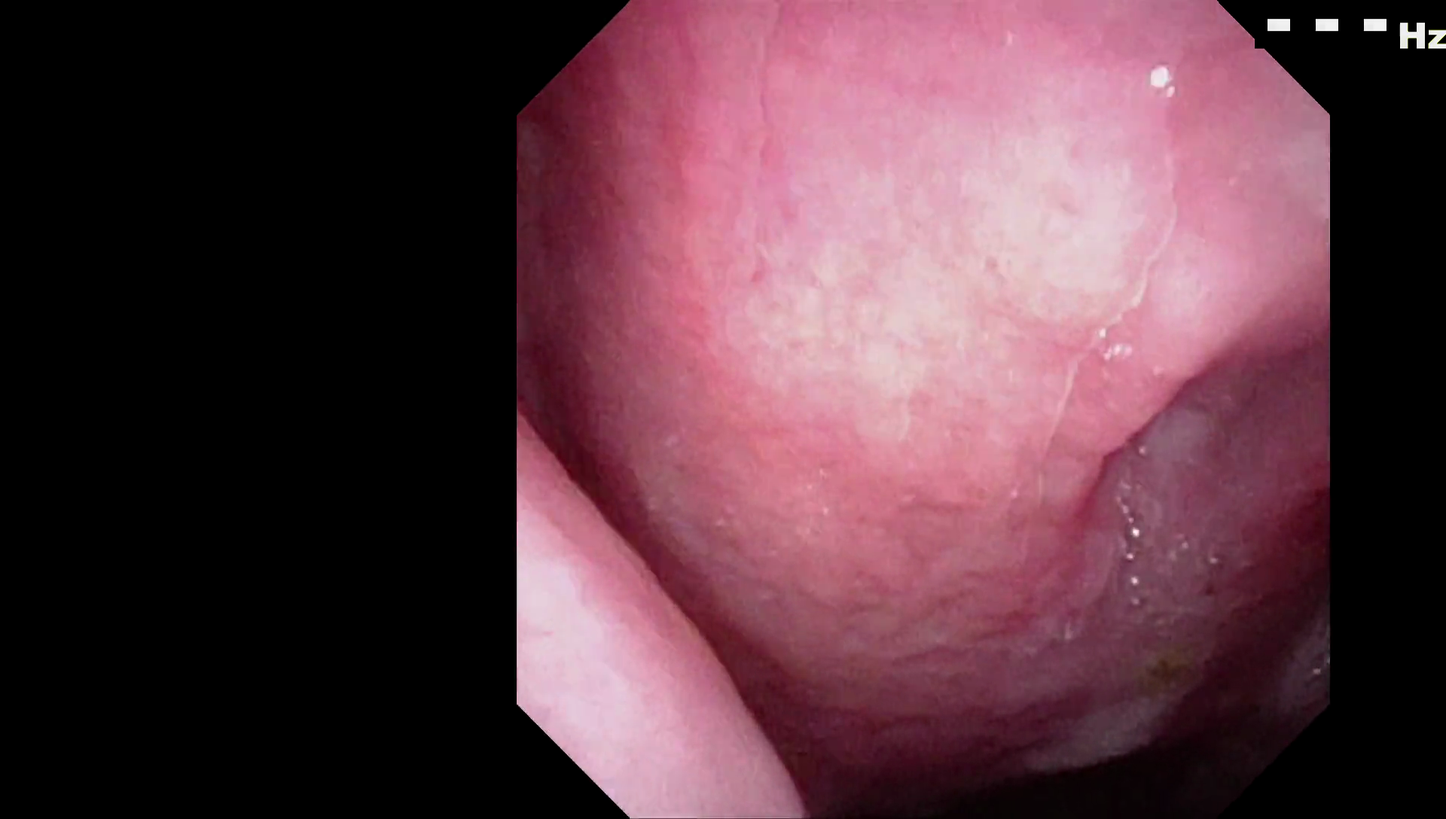close_wall: (675, 50, 1226, 436), (517, 453, 879, 819)
next: (706, 642, 1260, 819)
